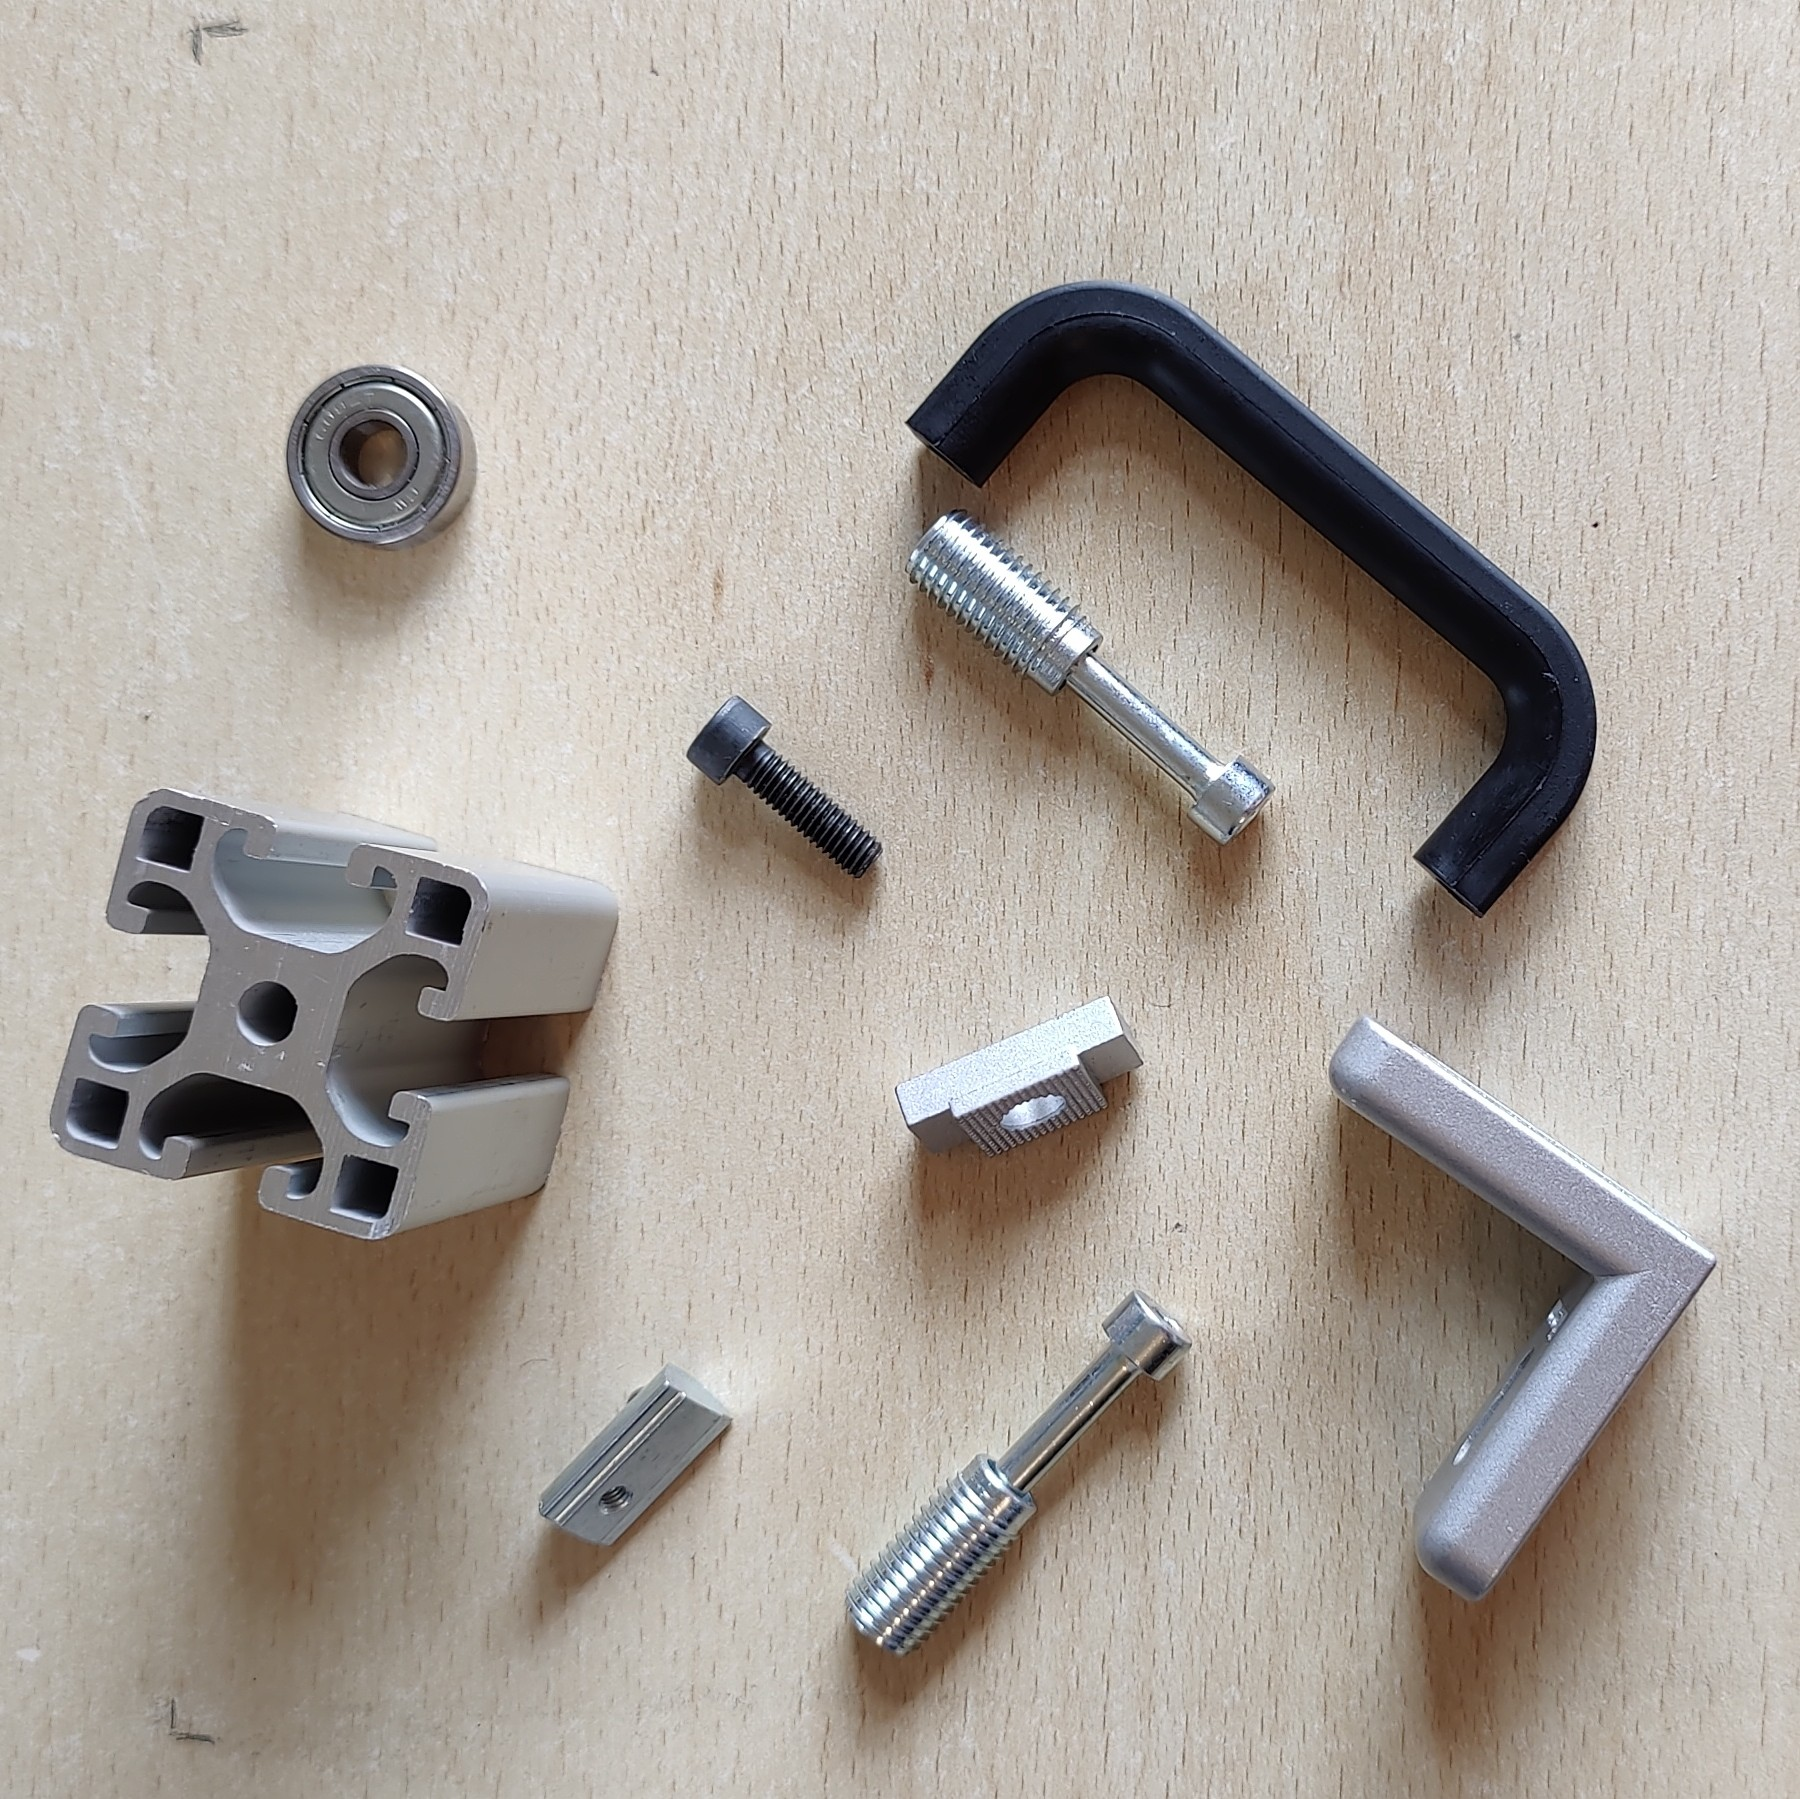Aluminium Extension: (48, 784, 621, 1245)
Ball Bearing: (282, 361, 479, 554)
Multiwinkel: (1321, 1012, 1719, 1606)
Pull Handle: (904, 278, 1601, 921)
Shoulder Socket Head Cap Screw: (843, 1280, 1194, 1657), (899, 504, 1280, 850)
Socket Head Cap Screw: (685, 695, 884, 881)
T Nut Square: (893, 990, 1149, 1161)
T Spring Nut: (535, 1361, 734, 1549)
